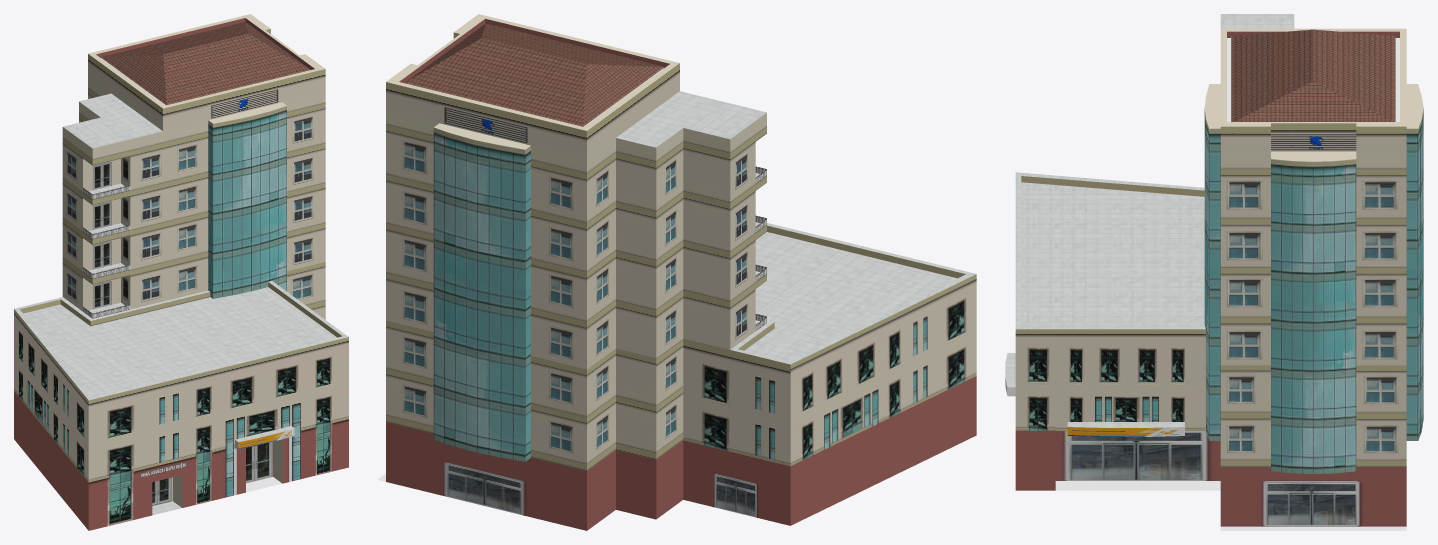
3 views of the same model, side by side, from view 1: azimuth 30°, elevation 25°; view 2: azimuth 150°, elevation 25°; view 3: azimuth 270°, elevation 25° (orthographic). The views are drawn at different scales.
Parts seen in each view (by area): view 1: 5b989a98f5024435d0fc4844.001; view 2: 5b989a98f5024435d0fc4844.001; view 3: 5b989a98f5024435d0fc4844.001.
Boxes of the visible parts, x1,y1,x2,y2 form: 5b989a98f5024435d0fc4844.001: (14,14,348,530); 5b989a98f5024435d0fc4844.001: (377,14,976,530); 5b989a98f5024435d0fc4844.001: (1005,14,1423,530).
Size of the model in its own units: 34.47 by 33.87 by 30.44.
1 material, 1 textured.
